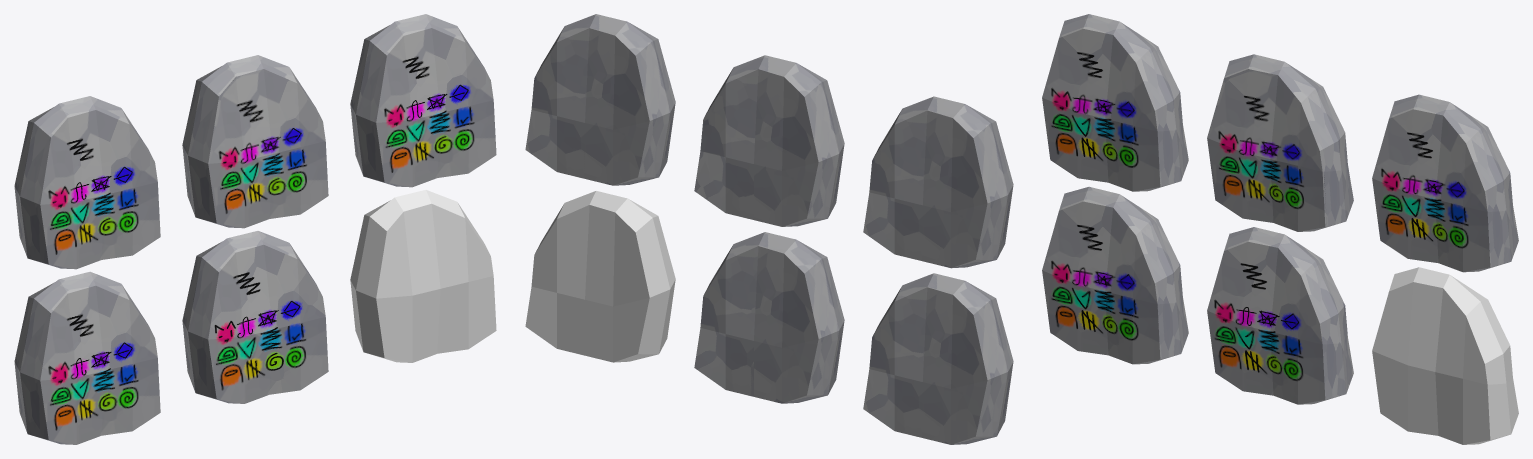
File: final_rosettastones.fbx
The picture shows the model from 3 angles, left to right: view 1: azimuth 30°, elevation 25°; view 2: azimuth 150°, elevation 25°; view 3: azimuth 330°, elevation 25°; orthographic projection. The views are drawn at different scales.
Parts seen in each view (by area): view 1: rosetta1icon, rosetta3word, rosetta2icon, rosetta3icon, rosetta2word, rosetta1word; view 2: rosetta3icon, rosetta3word, rosetta2icon, rosetta1icon, rosetta2word, rosetta1word; view 3: rosetta1word, rosetta1icon, rosetta2icon, rosetta3icon, rosetta2word, rosetta3word.
Boxes of the visible parts, x1=… form: rosetta1icon: x1=14, y1=271, x2=160, y2=444; rosetta3word: x1=350, y1=14, x2=496, y2=187; rosetta2icon: x1=182, y1=231, x2=328, y2=403; rosetta3icon: x1=350, y1=190, x2=496, y2=362; rosetta2word: x1=182, y1=55, x2=328, y2=228; rosetta1word: x1=14, y1=96, x2=160, y2=269; rosetta3icon: x1=525, y1=191, x2=675, y2=362; rosetta3word: x1=525, y1=14, x2=675, y2=185; rosetta2icon: x1=694, y1=232, x2=844, y2=403; rosetta1icon: x1=863, y1=273, x2=1013, y2=444; rosetta2word: x1=694, y1=55, x2=844, y2=226; rosetta1word: x1=863, y1=96, x2=1013, y2=268; rosetta1word: x1=1042, y1=14, x2=1188, y2=191; rosetta1icon: x1=1042, y1=186, x2=1188, y2=364; rosetta2icon: x1=1207, y1=227, x2=1353, y2=404; rosetta3icon: x1=1372, y1=267, x2=1518, y2=444; rosetta2word: x1=1207, y1=54, x2=1353, y2=231; rosetta3word: x1=1372, y1=94, x2=1518, y2=272.
Bounding box in the file's own units: 840 × 579 × 90.
Materials: 6 (5 with a texture image).
